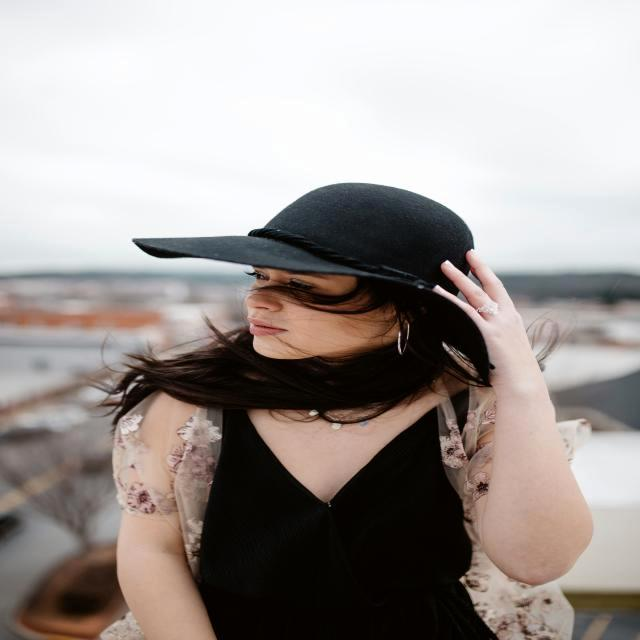no_hard_hat: (134, 183, 474, 291)
person: (92, 187, 600, 640)
